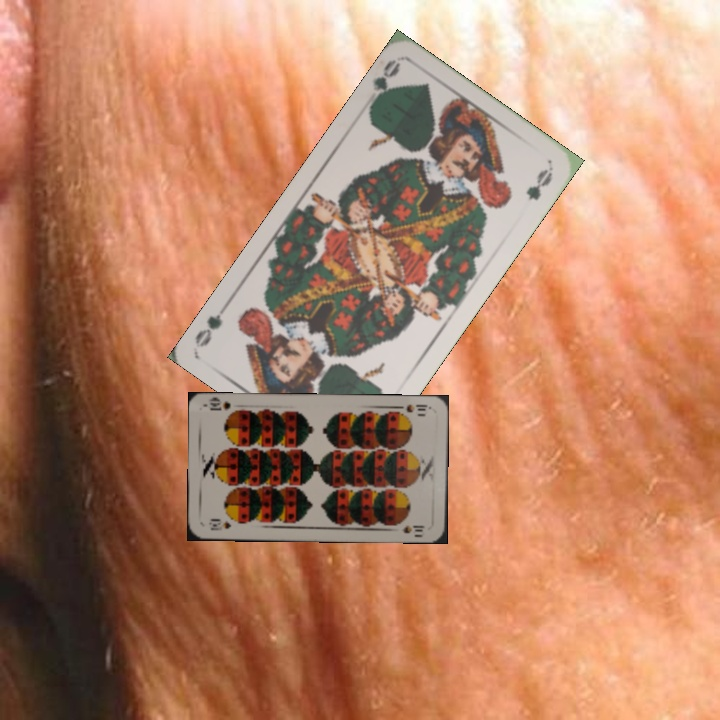GO: (365, 56, 402, 113)
S10: (392, 400, 432, 415), (205, 516, 234, 533)
